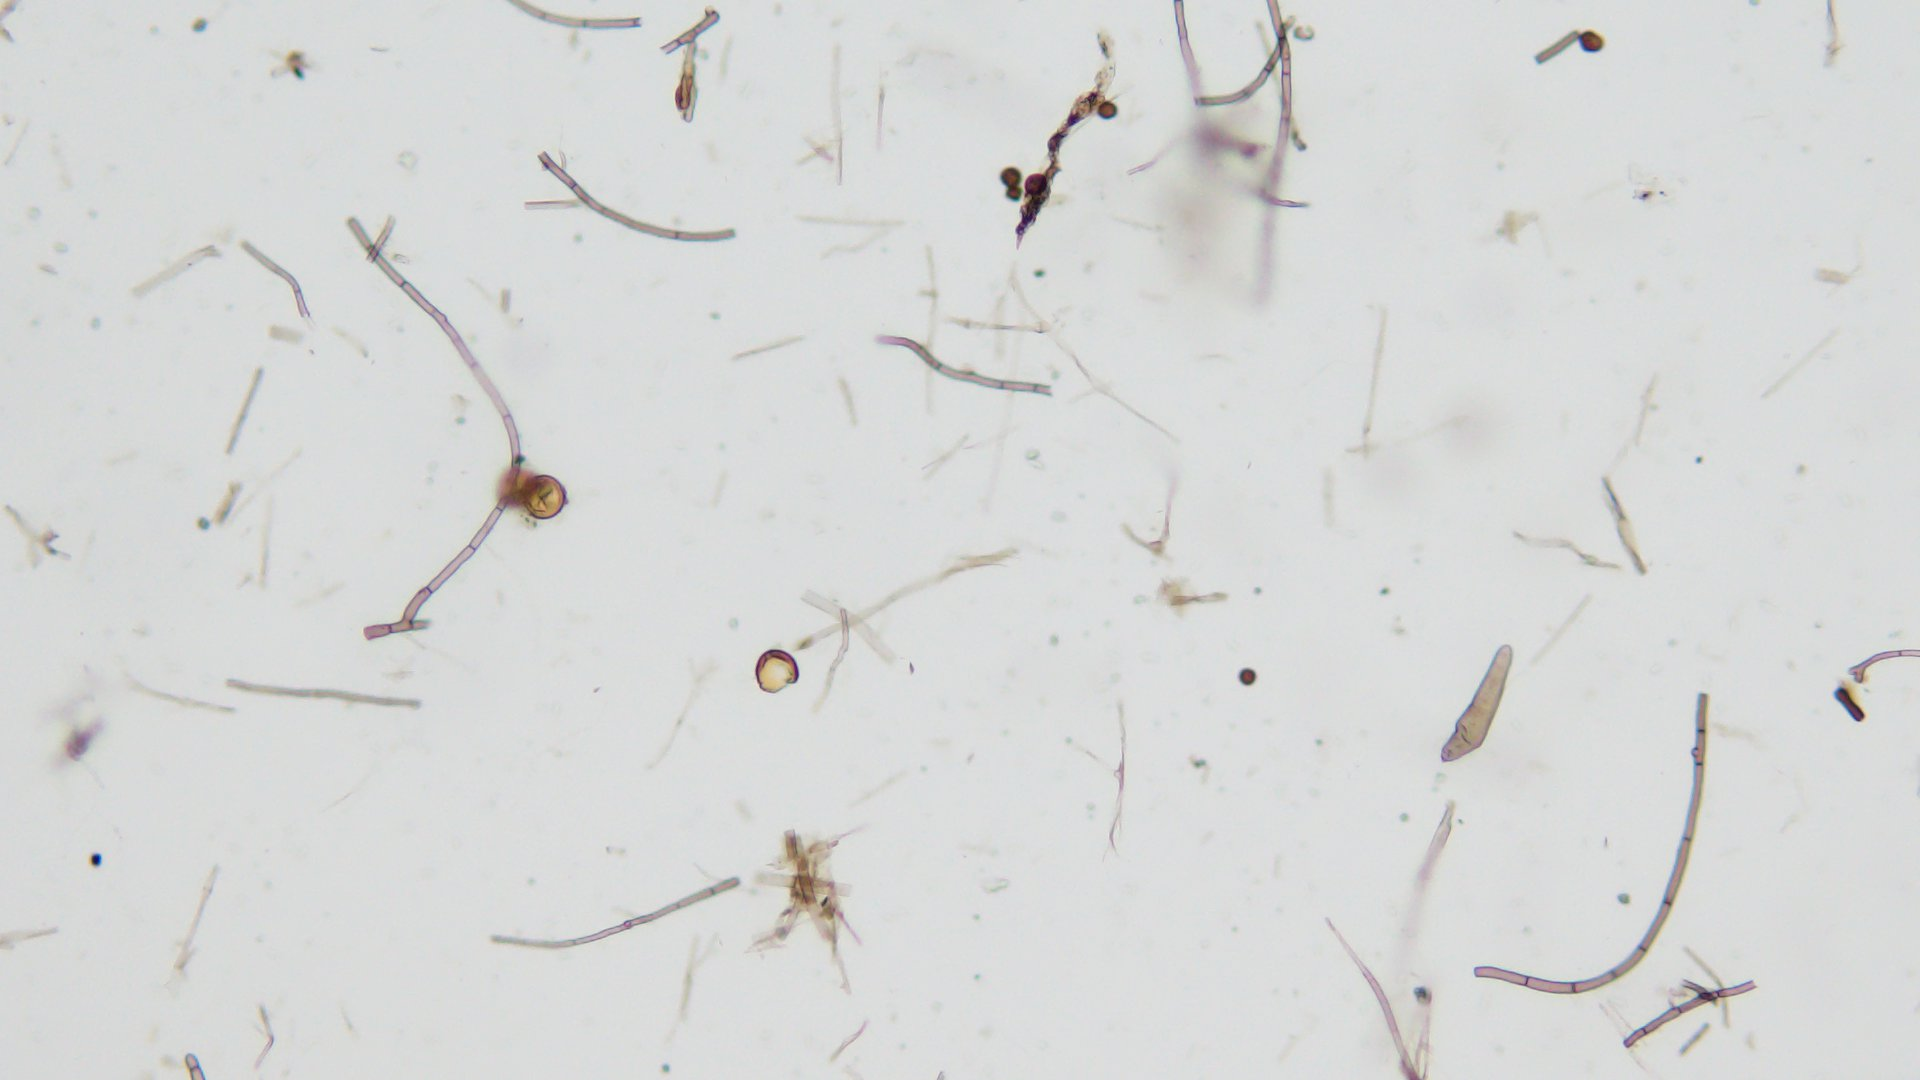dbb_spore: (1440, 644, 1514, 767)
shs_spore: (1022, 174, 1048, 198), (997, 167, 1023, 190), (1097, 100, 1121, 120), (1238, 669, 1255, 684)
xb_spore: (520, 472, 568, 524), (752, 644, 800, 695)
